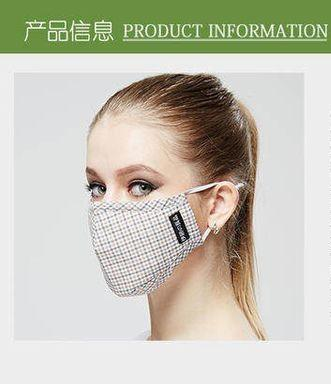OK: (79, 142, 212, 295)
